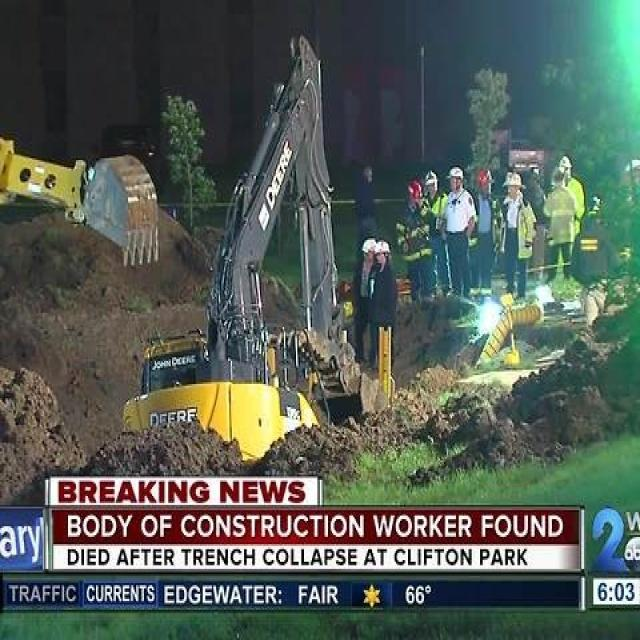helmet: (374, 317, 391, 355), (506, 229, 522, 263), (407, 238, 422, 274), (448, 224, 464, 257), (477, 224, 492, 257), (360, 315, 374, 348), (424, 228, 437, 259), (552, 224, 565, 248), (560, 208, 570, 235)
vest: (497, 260, 536, 340), (393, 283, 440, 348), (543, 252, 579, 331)
